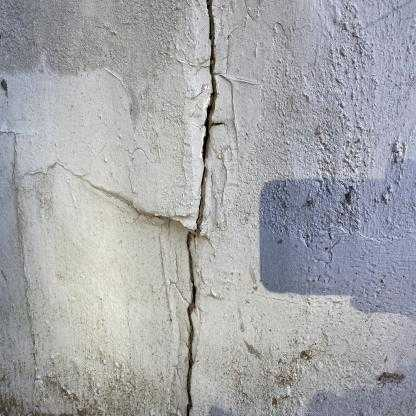crack: (186, 0, 218, 415)
